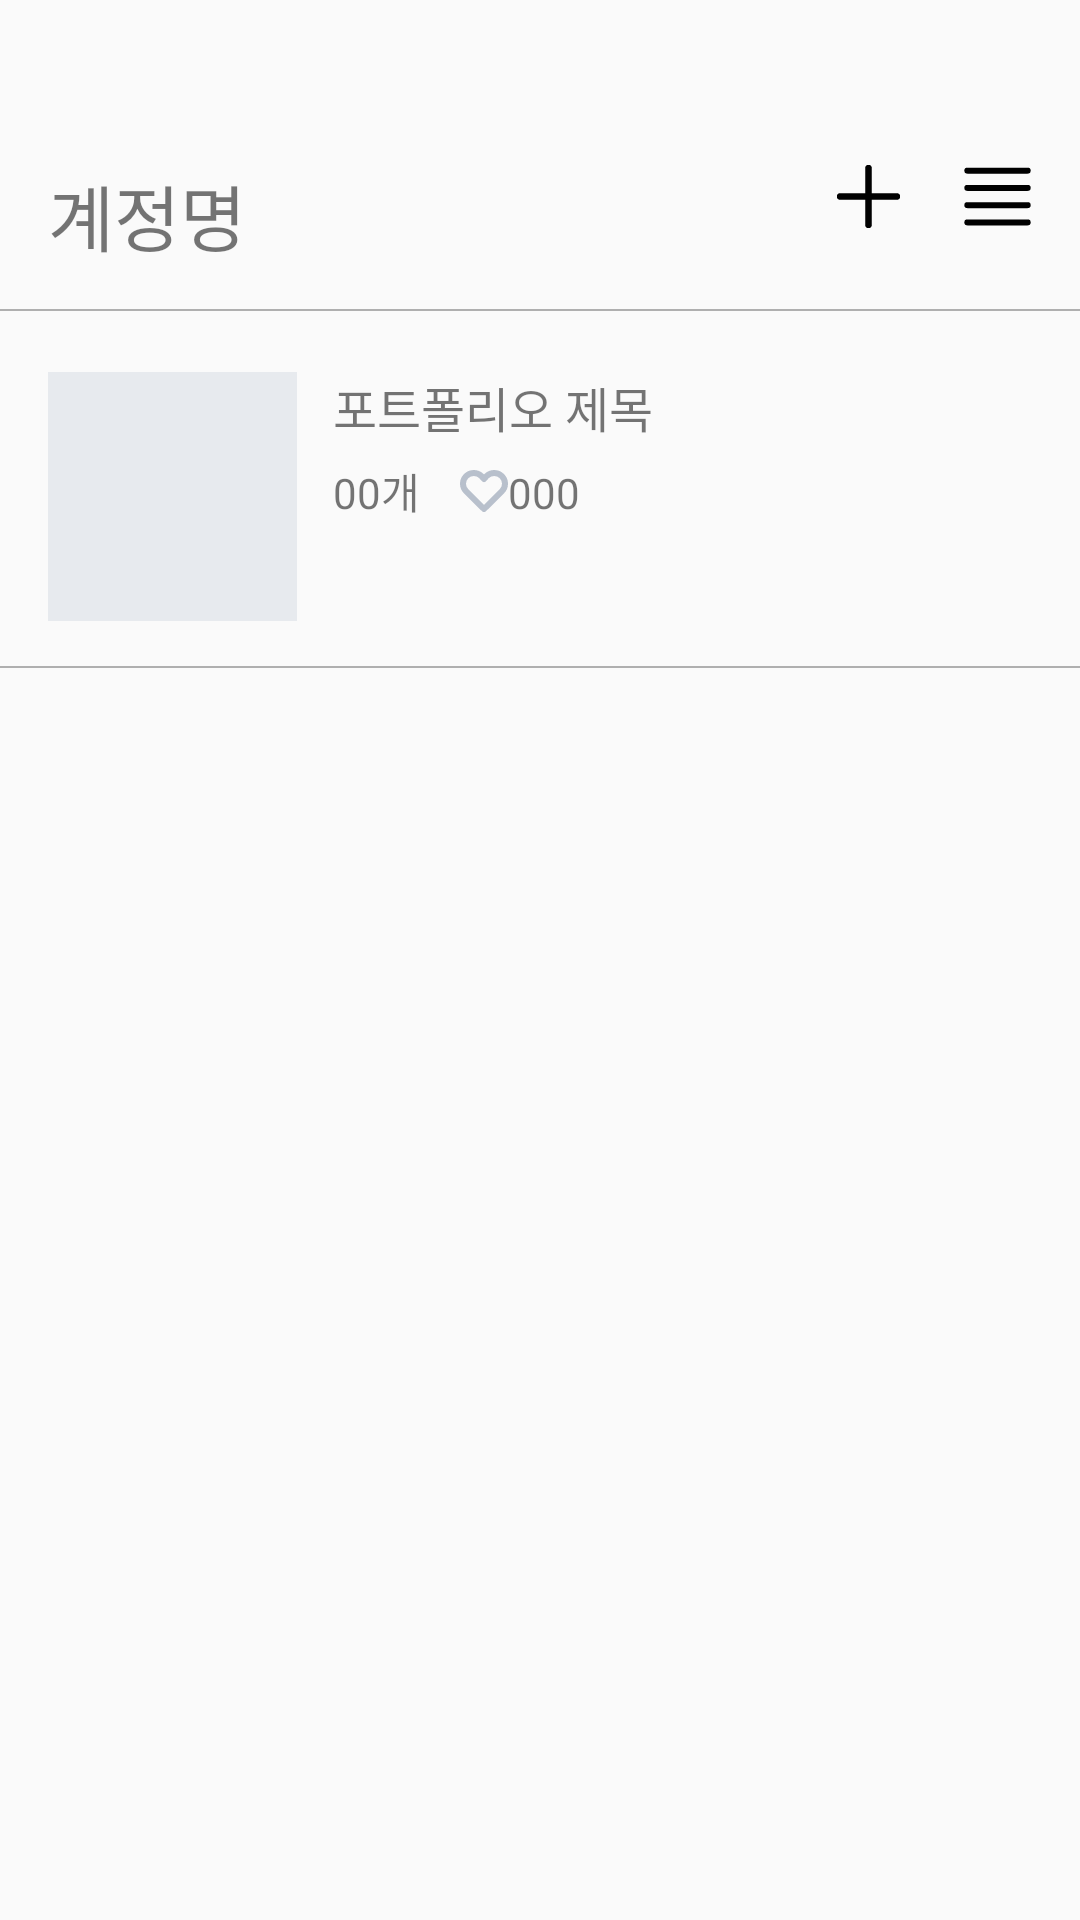

Icon bounding boxes for this 1080*1920 phone screenshot, format (x1, y1, x2, y2):
mypage add: (837, 165, 900, 228)
mypage likerecord: (460, 470, 508, 512)
mypage menu: (964, 167, 1031, 226)
